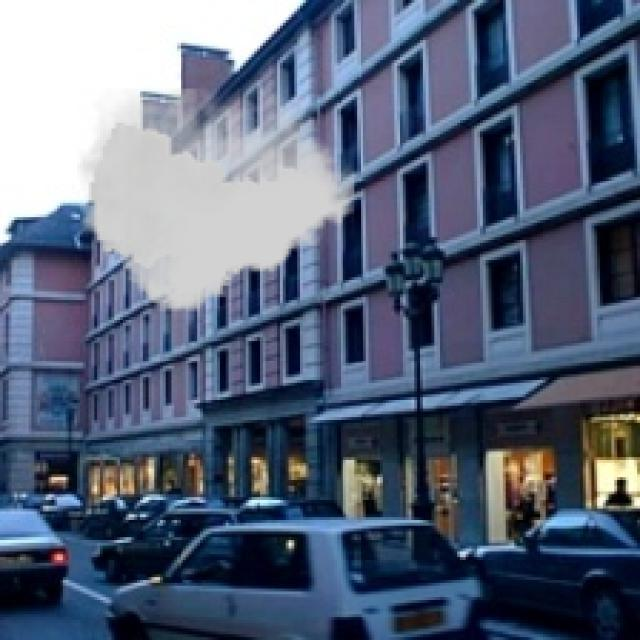Smoke: (77, 88, 354, 312)
